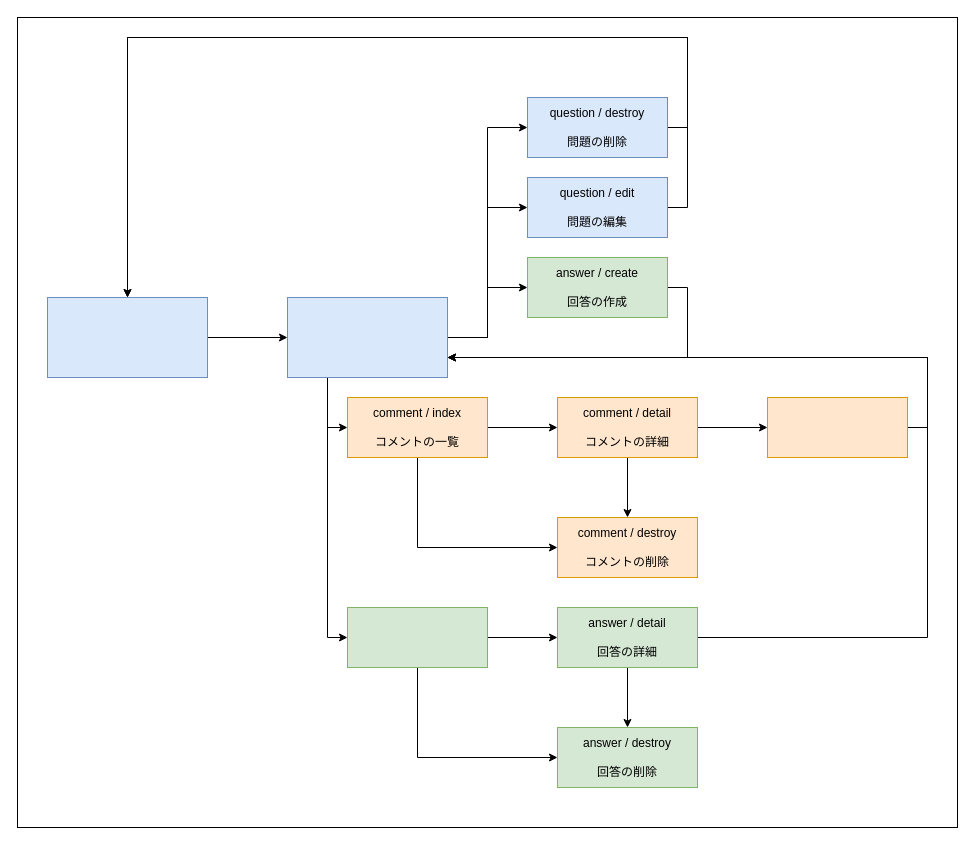
Some shapes in this 975 by 845 pixel diagram are drawn without their labels. Here are the shapes that lost their labels. From the top down, the box of each, then its label:
(46, 296, 208, 378): question / index 問題一覧
(286, 296, 448, 378): question / detail 問題の個別画面
(766, 396, 908, 458): comment / edit コメントの編集
(346, 606, 488, 668): answer / index 回答の一覧
